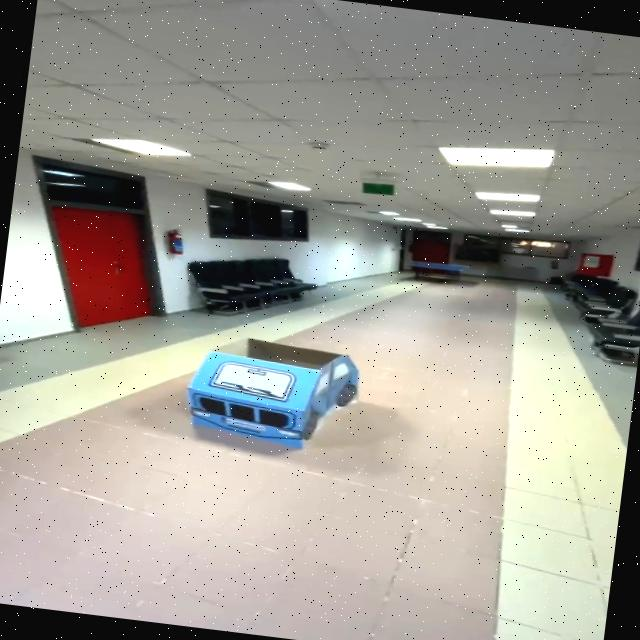blue_car: (162, 317, 429, 479)
